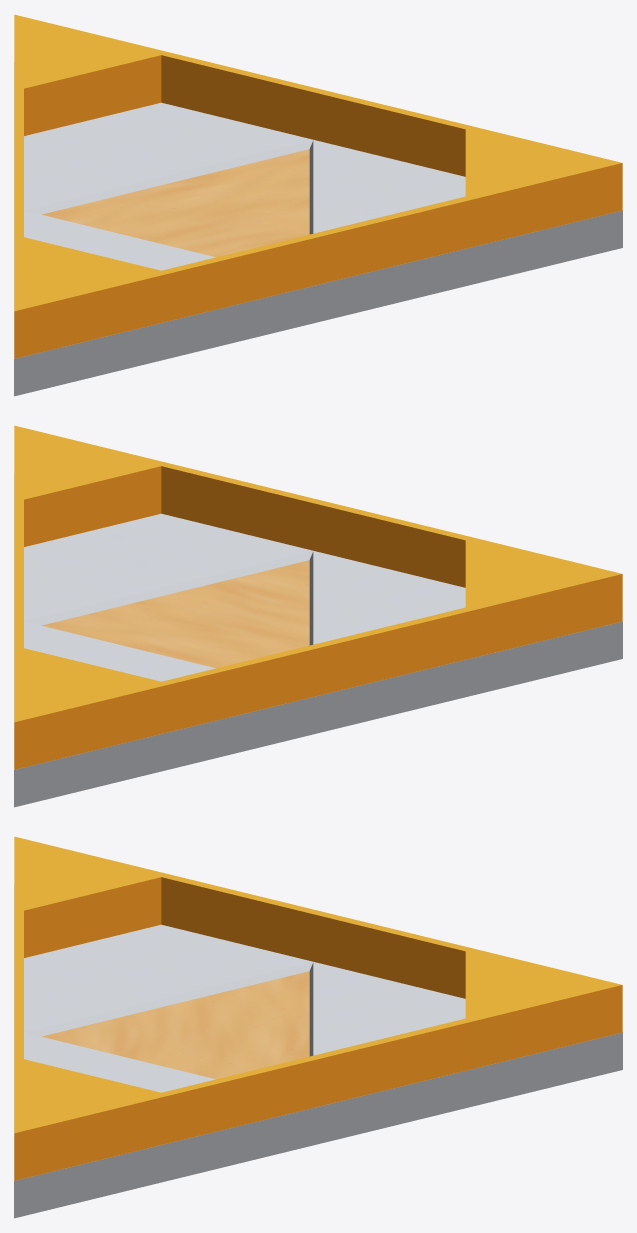
File: triangle_platform.fbx
3 views of the same model, one above another, from view 1: azimuth 30°, elevation 25°; view 2: azimuth 150°, elevation 25°; view 3: azimuth 270°, elevation 25° (orthographic).
Parts seen in each view (by area): view 1: Cylinder.021, Cylinder.020; view 2: Cylinder.021, Cylinder.020; view 3: Cylinder.021, Cylinder.020.
Part boxes in pixels (bbox=[...]): Cylinder.021: bbox=[14, 14, 622, 358]; Cylinder.020: bbox=[14, 62, 622, 396]; Cylinder.021: bbox=[14, 425, 622, 769]; Cylinder.020: bbox=[14, 473, 622, 807]; Cylinder.021: bbox=[14, 836, 622, 1180]; Cylinder.020: bbox=[14, 884, 622, 1218].
Bounding box in the file's own units: 5106 × 681 × 4422.
